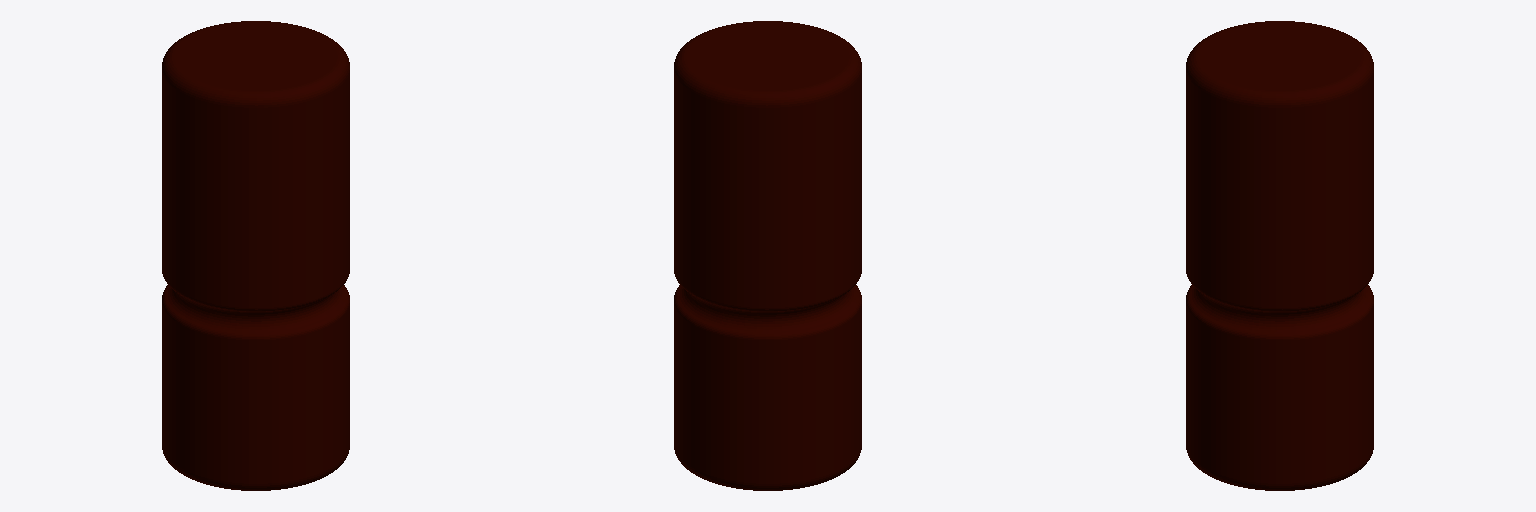
File: grand-rond-marron.obj
3 renders of one model, left to right at view 1: azimuth 30°, elevation 25°; view 2: azimuth 150°, elevation 25°; view 3: azimuth 270°, elevation 25°, orthographic.
Parts seen in each view (by area): view 1: quarto-pieces.010; view 2: quarto-pieces.010; view 3: quarto-pieces.010.
Boxes of the visible parts, box(x1,y1,x2,y2) form: quarto-pieces.010: box(162, 21, 349, 490); quarto-pieces.010: box(674, 21, 861, 490); quarto-pieces.010: box(1186, 21, 1373, 490).
Size of the model in its own units: 29.98 by 70 by 29.98.